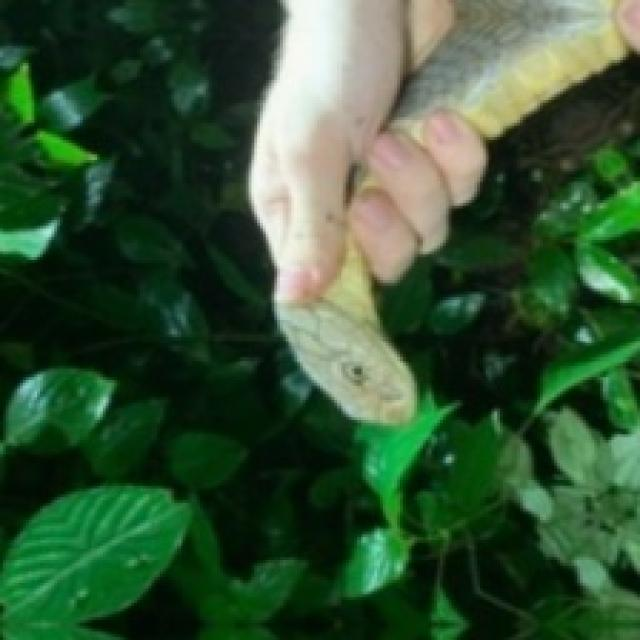king cobra: (249, 0, 637, 420)
